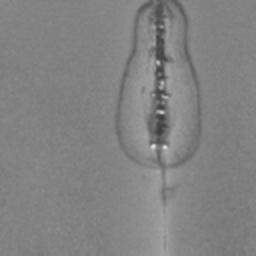Slag inclusion: (114, 0, 204, 206)
